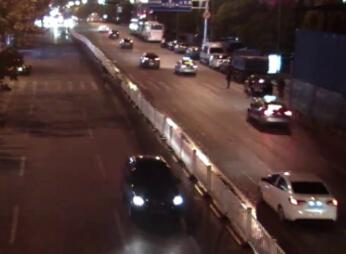bus: (137, 19, 167, 42)
car: (253, 167, 342, 227), (116, 150, 186, 226), (244, 91, 296, 131), (138, 47, 162, 71), (172, 56, 198, 77), (201, 42, 228, 62), (207, 50, 230, 69), (117, 37, 136, 51), (107, 27, 120, 39)
